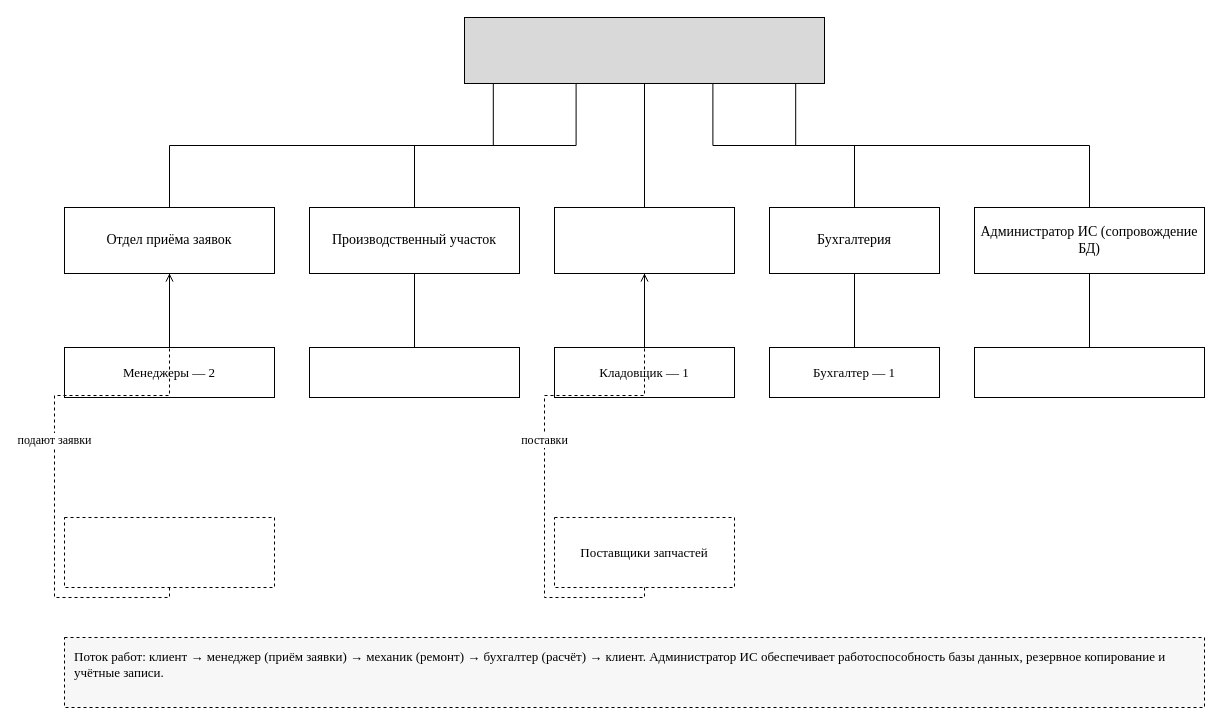
Some shapes in this 1222 by 725 pixel diagram are drawn without their labels. Here are the shapes that lost their labels. From the top down, the centre of each, then its label:
pixel 644 50: Генеральный директор ООО «АвтоМастер»
pixel 644 240: Склад запчастей
pixel 414 372: Механики — 2
pixel 1089 372: Сопровождение и резервное копирование
pixel 169 552: Клиенты — владельцы транспортных средств
